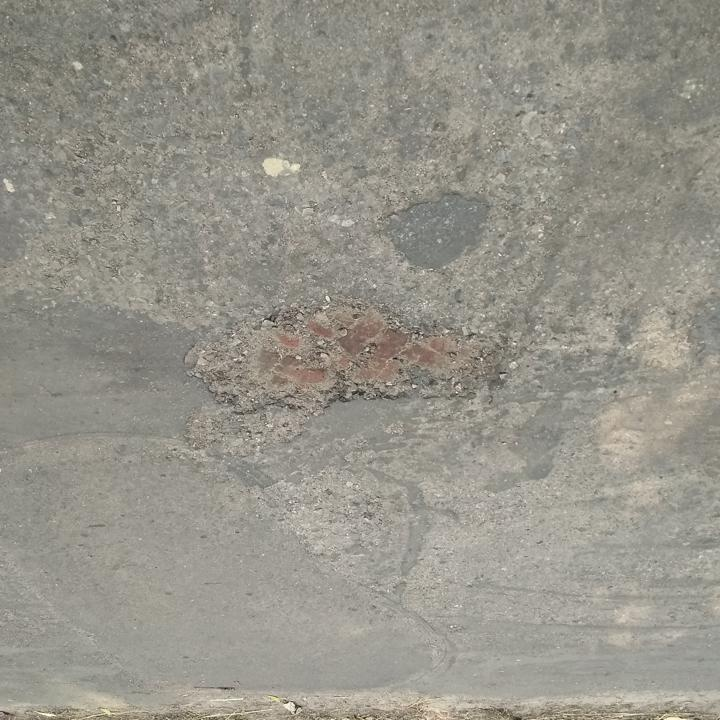pothole: (179, 294, 509, 416)
